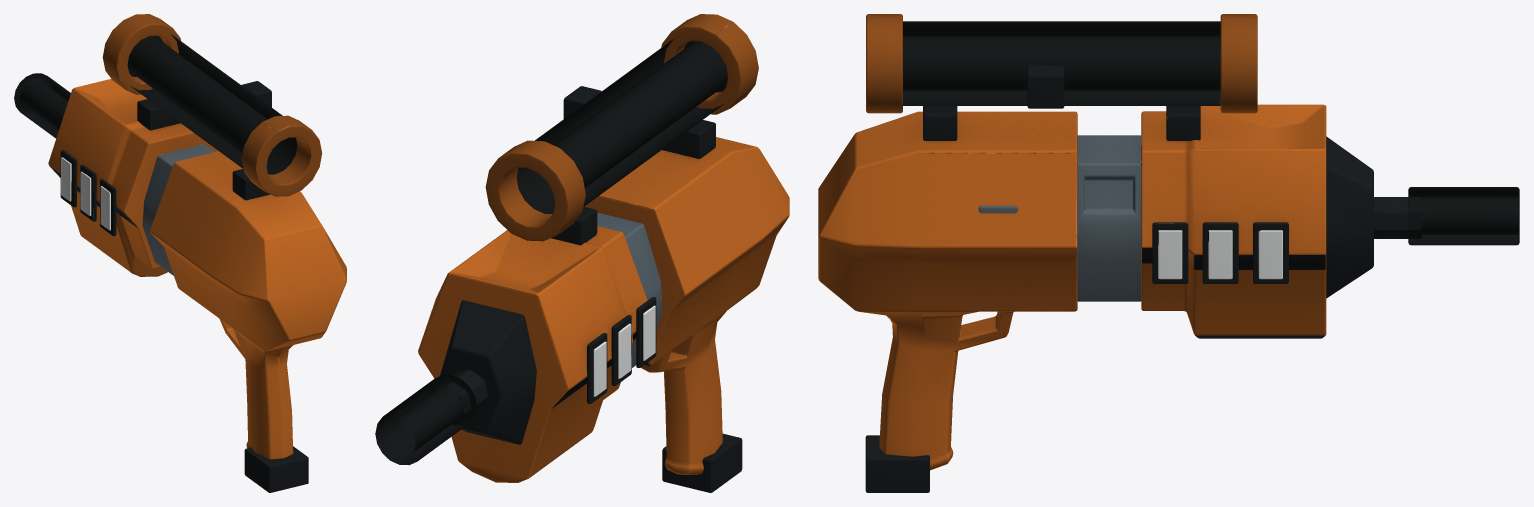
Rendered from beam_pistol.glb.
3 renders of one model, left to right at view 1: azimuth 30°, elevation 25°; view 2: azimuth 150°, elevation 25°; view 3: azimuth 270°, elevation 25°, orthographic. The views are drawn at different scales.
Visible parts, largest first — view 1: beam_pistol, InsertedAmmo; view 2: beam_pistol, InsertedAmmo; view 3: beam_pistol, InsertedAmmo.
Boxes of the visible parts, x1=… form: beam_pistol: x1=14, y1=14, x2=346, y2=459; InsertedAmmo: x1=244, y1=446, x2=308, y2=492; beam_pistol: x1=375, y1=14, x2=789, y2=482; InsertedAmmo: x1=662, y1=433, x2=742, y2=492; beam_pistol: x1=818, y1=14, x2=1519, y2=470; InsertedAmmo: x1=865, y1=435, x2=929, y2=492.
Bounding box in the file's own units: 0.1269 × 0.3378 × 0.4637.
Materials: 1 (1 with a texture image).
